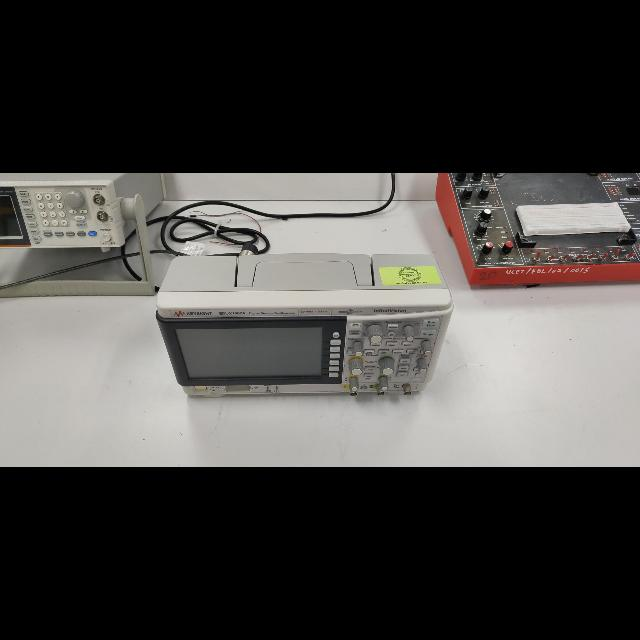Digital-Oscilloscope: (155, 254, 453, 398)
